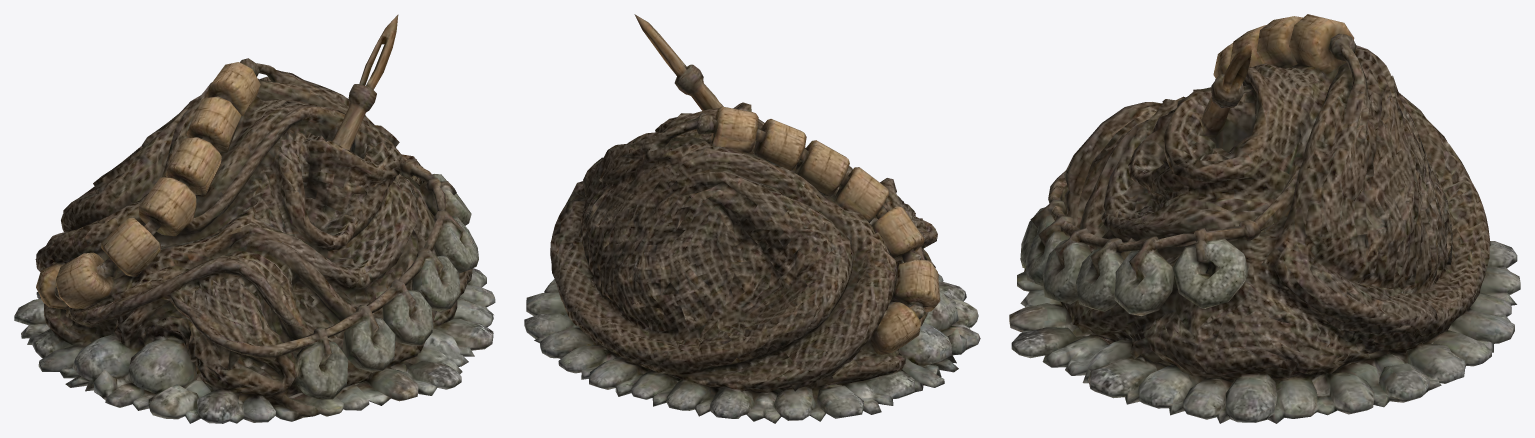
The model's file is kit_sf_net_pile.glb.
The picture shows the model from 3 angles, left to right: view 1: azimuth 30°, elevation 25°; view 2: azimuth 150°, elevation 25°; view 3: azimuth 270°, elevation 25°; orthographic projection. The views are drawn at different scales.
Parts seen in each view (by area): view 1: kit_sf_net_pile; view 2: kit_sf_net_pile; view 3: kit_sf_net_pile.
Part boxes in pixels (left/top/right/bottom): kit_sf_net_pile: left=14, top=14, right=495, bottom=423; kit_sf_net_pile: left=524, top=14, right=980, bottom=423; kit_sf_net_pile: left=1009, top=14, right=1520, bottom=423.
Size of the model in its own units: 1.9 by 1.25 by 1.71.
1 material, 1 textured.
